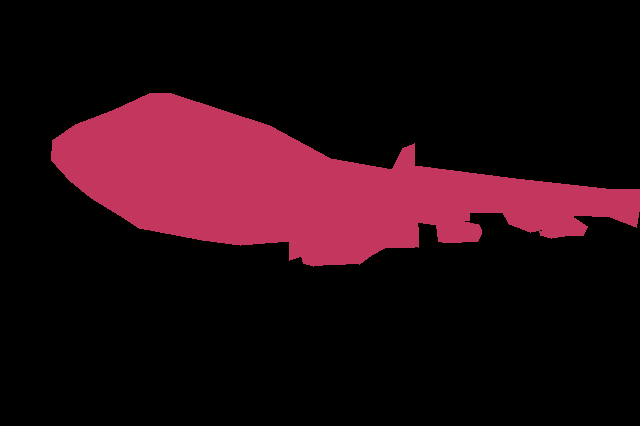Airplane: (51, 93, 640, 266), (539, 216, 588, 239)
